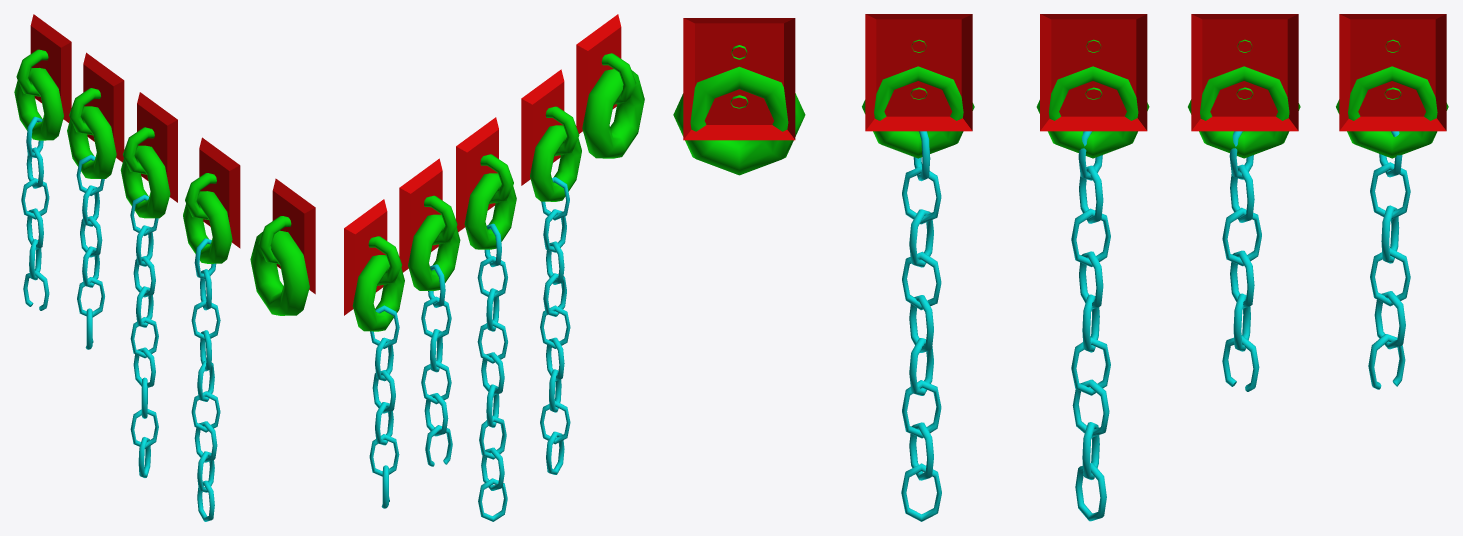
File: Chains_low.fbx
3 views of the same model, side by side, from view 1: azimuth 30°, elevation 25°; view 2: azimuth 150°, elevation 25°; view 3: azimuth 270°, elevation 25° (orthographic). The views are drawn at different scales.
Parts seen in each view (by area): view 1: Chain1_Long_low, Chain1_Long2_low, Chain1_Broken2_low, Chain1_Broken_low, Chain1_Regular_low; view 2: Chain1_Long_low, Chain1_Long2_low, Chain1_Broken_low, Chain1_Broken2_low, Chain1_Regular_low; view 3: Chain1_Long2_low, Chain1_Long_low, Chain1_Broken2_low, Chain1_Broken_low, Chain1_Regular_low.
Part boxes in pixels (<box>): Chain1_Long_low: <box>183,137,240,521</box>; Chain1_Long2_low: <box>120,92,177,477</box>; Chain1_Broken2_low: <box>14,14,71,310</box>; Chain1_Broken_low: <box>67,52,124,349</box>; Chain1_Regular_low: <box>250,178,315,315</box>; Chain1_Long_low: <box>521,69,581,474</box>; Chain1_Long2_low: <box>456,117,516,521</box>; Chain1_Broken_low: <box>399,158,460,466</box>; Chain1_Broken2_low: <box>344,199,404,508</box>; Chain1_Regular_low: <box>576,14,644,158</box>; Chain1_Long2_low: <box>1036,14,1149,521</box>; Chain1_Long_low: <box>862,14,974,521</box>; Chain1_Broken2_low: <box>1336,14,1448,389</box>; Chain1_Broken_low: <box>1188,14,1300,391</box>; Chain1_Regular_low: <box>673,18,805,175</box>.
Bounding box in the file's own units: 0.1925 × 1.47 × 1.98.
